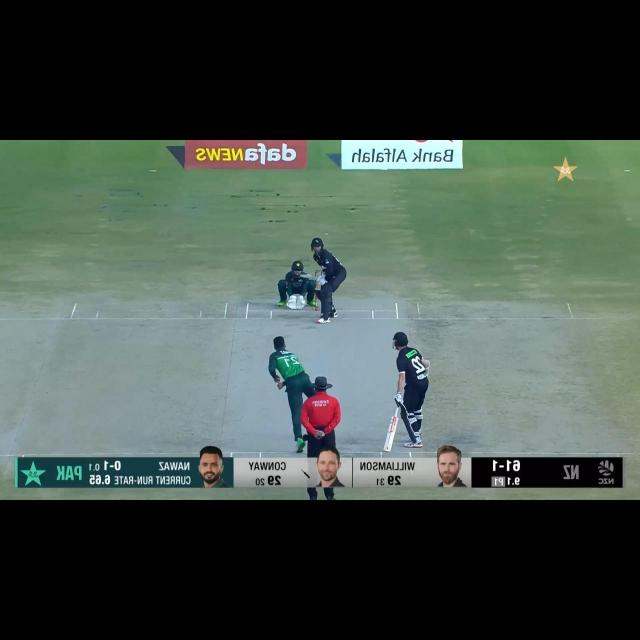bat: (376, 419, 404, 456), (294, 272, 316, 281)
toe: (380, 439, 396, 454), (298, 271, 306, 279)
